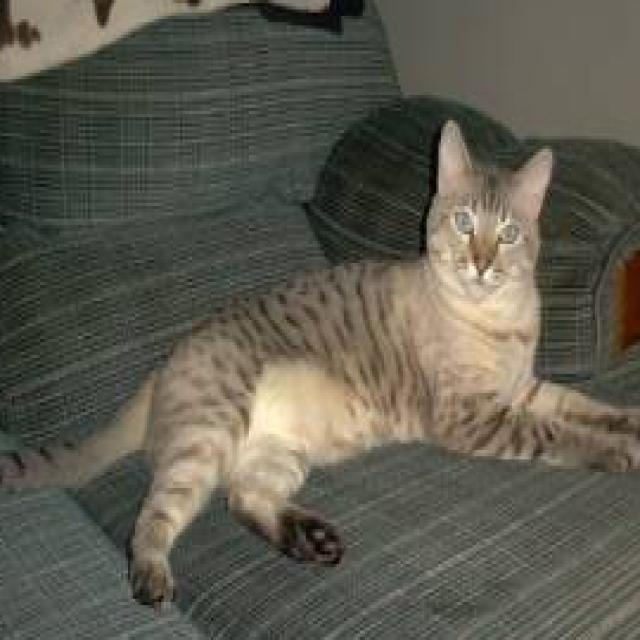Bengal: (0, 117, 640, 608)
